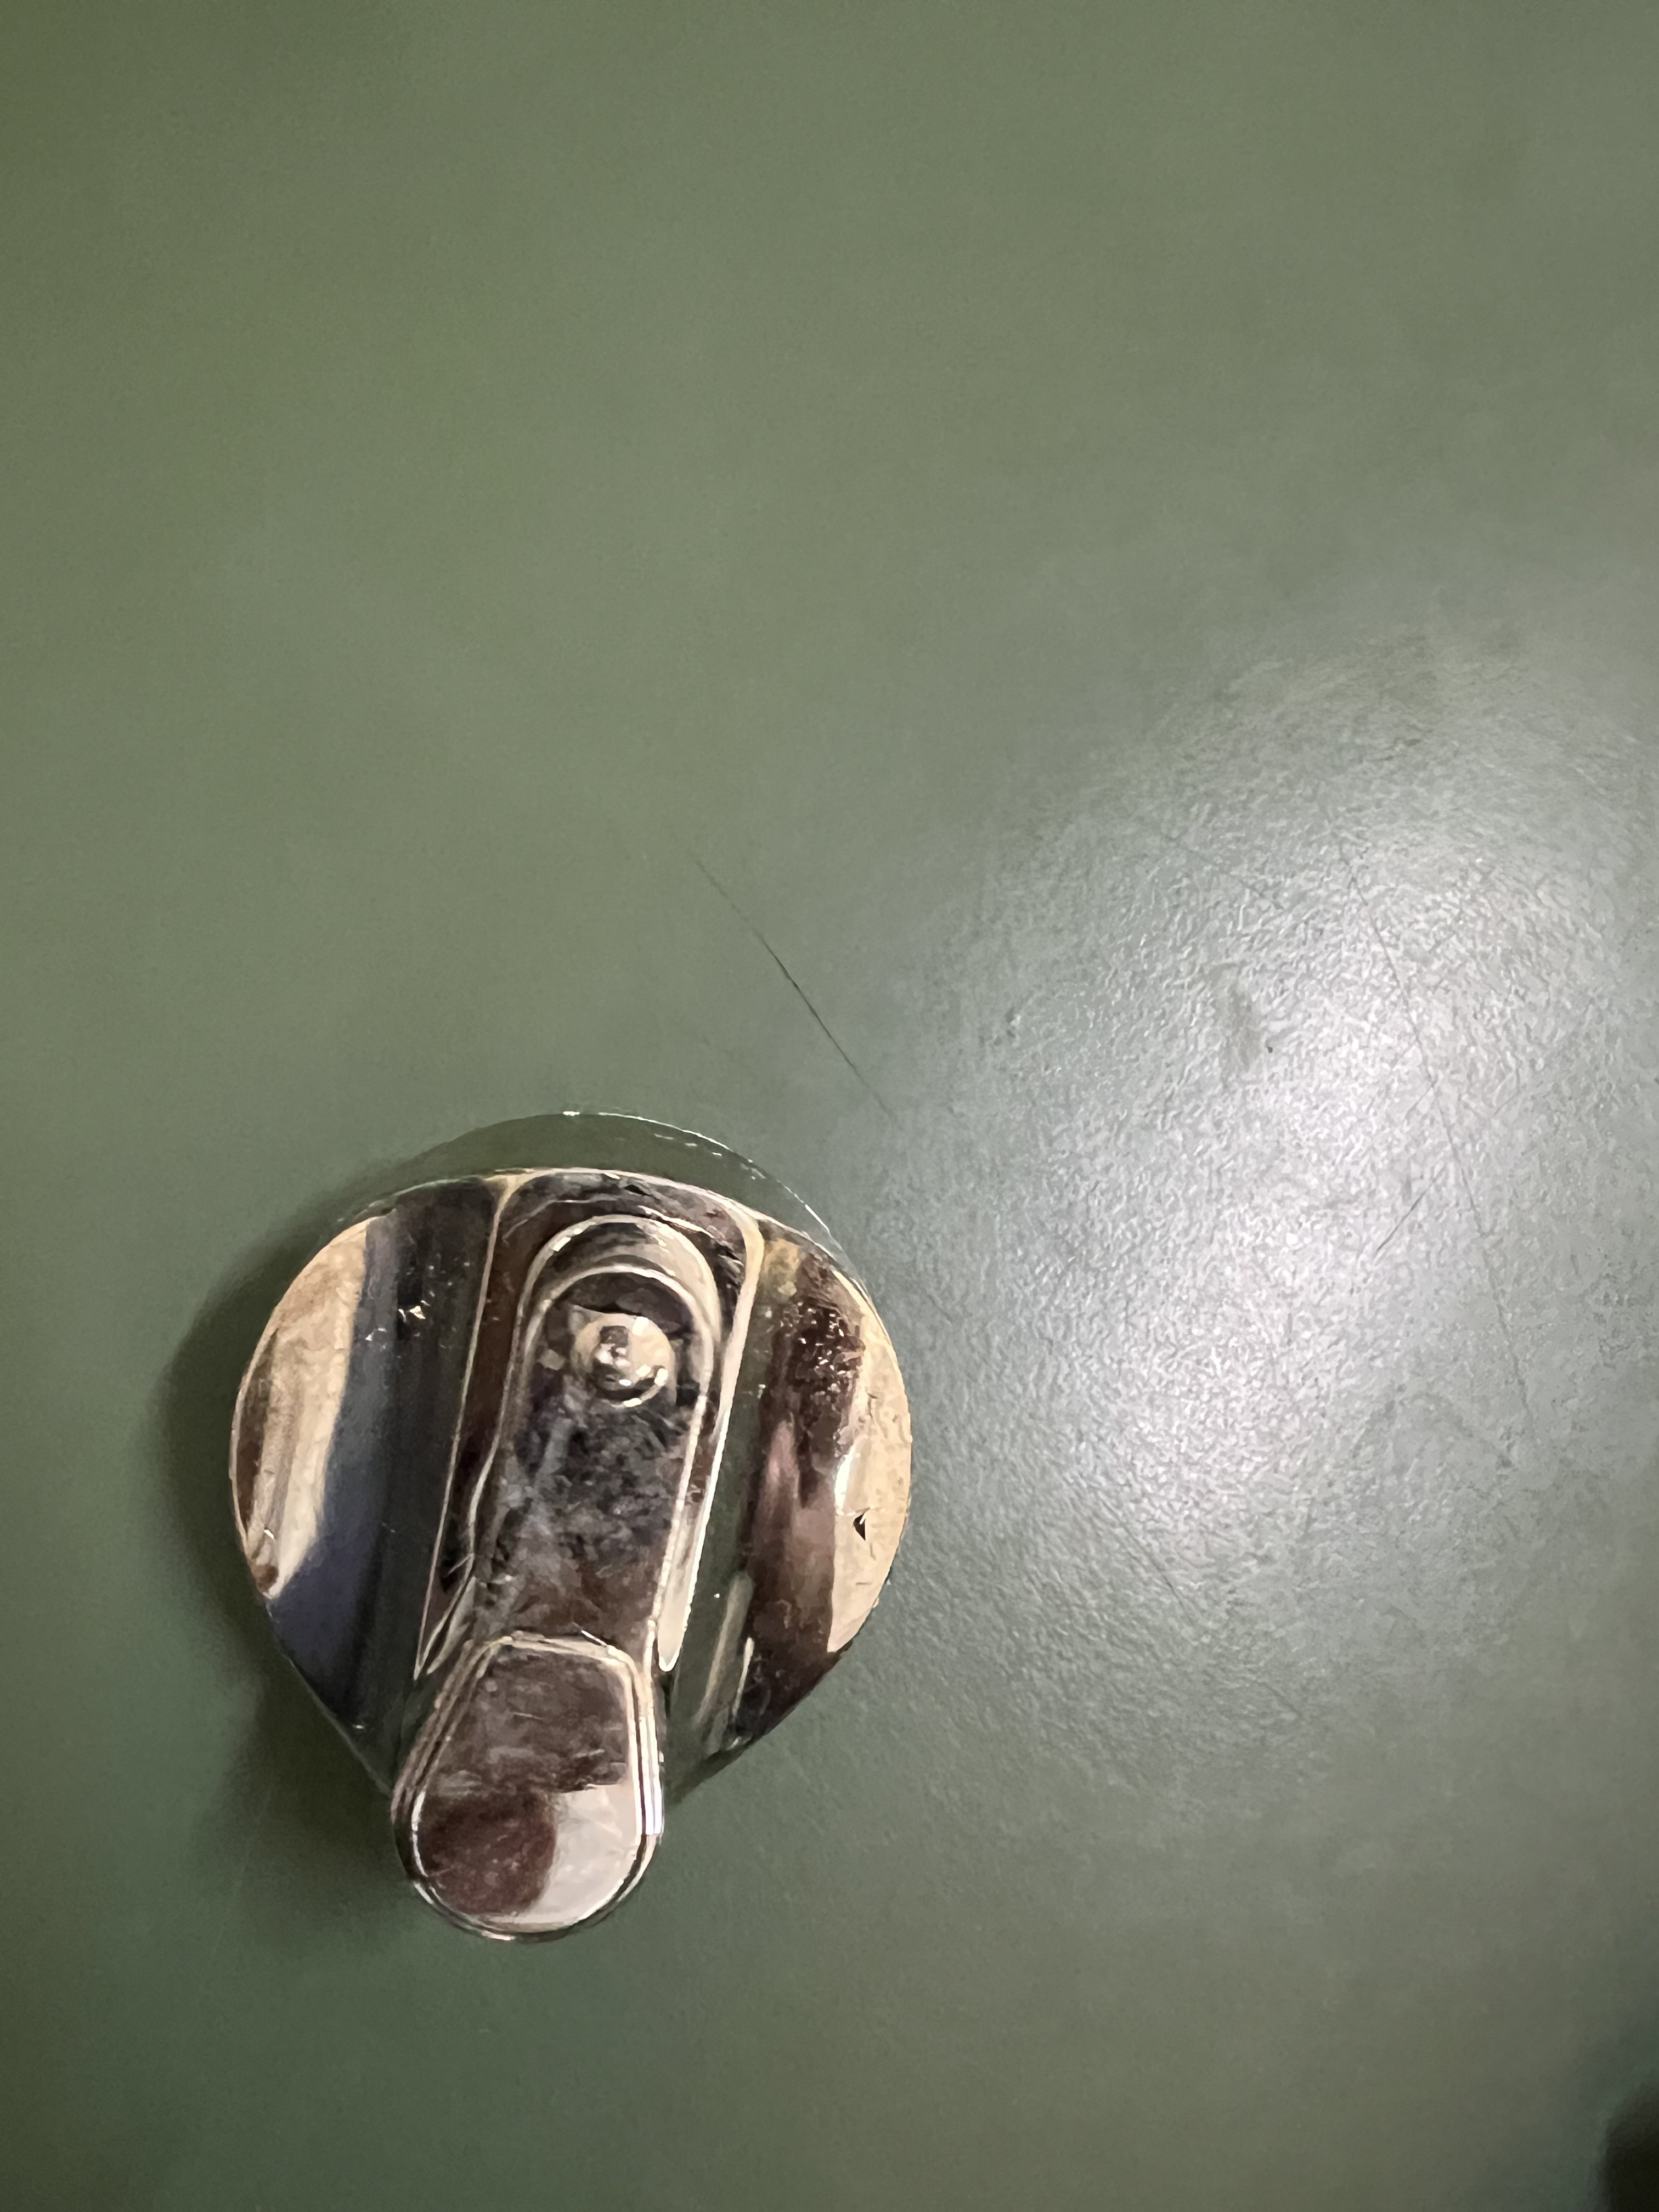regulator: (223, 1132, 920, 1918)
